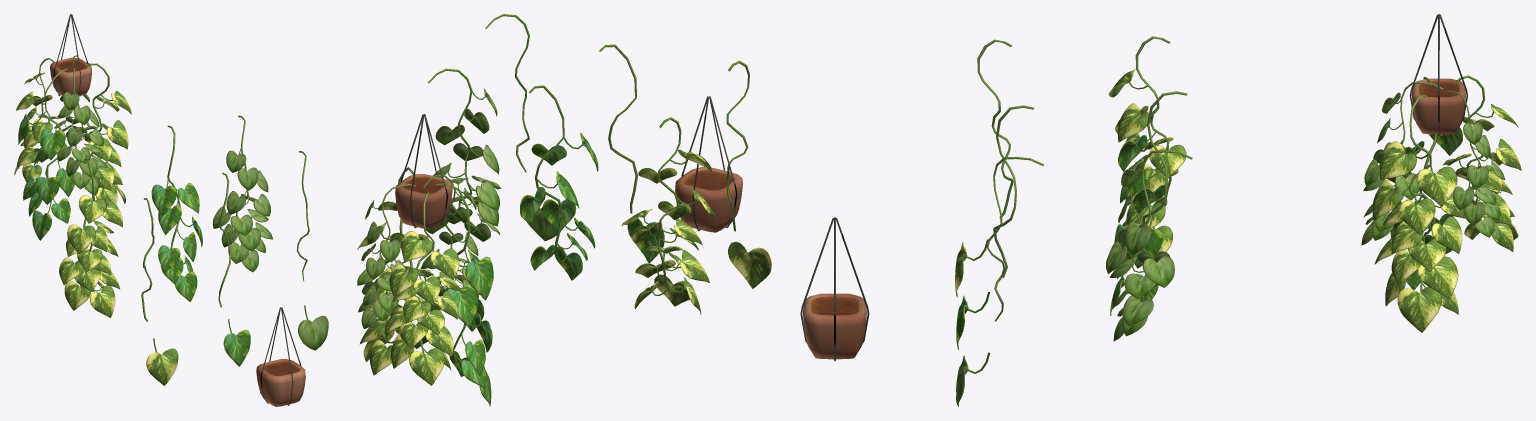
Rendered from Pothos_Plants.fbx.
3 views of the same model, side by side, from view 1: azimuth 30°, elevation 25°; view 2: azimuth 150°, elevation 25°; view 3: azimuth 270°, elevation 25° (orthographic). The views are drawn at different scales.
Parts seen in each view (by area): view 1: Constructed Sample, Sample 1, Sample 3, Sample 2, Pot, Leaf 1, Leaf 3, Leaf 2, String, Stem 2, Stem 1, Stem 3; view 2: Constructed Sample, Sample 1, Sample 2, Sample 3, Pot, Leaf 1, String, Leaf 2, Stem 2, Stem 1, Stem 3, Leaf 3; view 3: Constructed Sample, Sample 3, Sample 1, Pot, Sample 2, String, Stem 1.
Part boxes in pixels (box(x1,y1,x2,y2)): Constructed Sample: box(14, 14, 131, 240); Sample 1: box(59, 159, 122, 317); Sample 3: box(212, 115, 273, 272); Sample 2: box(151, 125, 202, 301); Pot: box(256, 359, 305, 406); Leaf 1: box(146, 338, 178, 385); Leaf 3: box(298, 305, 328, 350); Leaf 2: box(223, 319, 250, 366); String: box(260, 307, 301, 405); Stem 2: box(218, 173, 231, 307); Stem 1: box(141, 198, 154, 322); Stem 3: box(296, 151, 309, 281); Constructed Sample: box(357, 114, 493, 406); Sample 1: box(621, 117, 716, 314); Sample 2: box(520, 85, 598, 280); Sample 3: box(427, 68, 501, 241); Pot: box(675, 167, 742, 232); Leaf 1: box(728, 241, 771, 288); String: box(681, 96, 737, 231); Leaf 2: box(627, 218, 664, 263); Stem 2: box(599, 44, 637, 213); Stem 1: box(726, 60, 749, 231); Stem 3: box(485, 14, 529, 172); Leaf 3: box(526, 207, 557, 241); Constructed Sample: box(1361, 14, 1521, 332); Sample 3: box(1106, 150, 1192, 341); Sample 1: box(1108, 36, 1186, 253); Pot: box(803, 293, 866, 359); Sample 2: box(1110, 91, 1187, 315); String: box(800, 217, 869, 360); Stem 1: box(977, 39, 1013, 218).
Size of the model in its own units: 1876 by 2057 by 3986.
